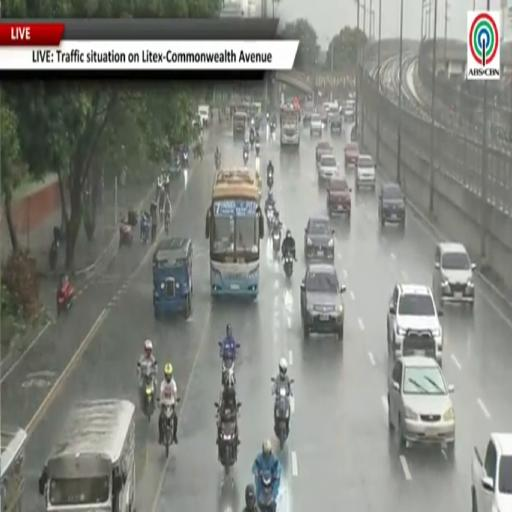bus: (39, 399, 135, 511), (206, 169, 264, 298), (0, 426, 26, 511)
car: (388, 357, 455, 456), (387, 284, 443, 364), (301, 264, 345, 340), (433, 243, 476, 307), (304, 216, 334, 263), (378, 183, 405, 228), (327, 176, 351, 218), (355, 154, 376, 190), (317, 154, 338, 181), (316, 141, 333, 162), (345, 142, 359, 167), (198, 104, 210, 127), (310, 114, 322, 136), (303, 101, 314, 125), (330, 114, 342, 134), (328, 105, 338, 123), (344, 107, 354, 122), (350, 123, 358, 141), (321, 107, 327, 125)
jeepney: (153, 237, 193, 318), (233, 111, 247, 138)
motorcycle: (218, 419, 239, 474), (273, 387, 290, 449), (257, 471, 276, 511), (163, 405, 176, 457), (143, 366, 154, 422), (57, 281, 74, 316), (221, 355, 235, 385), (119, 222, 133, 248), (49, 240, 59, 271), (283, 251, 293, 279), (141, 215, 150, 244), (265, 204, 274, 232), (272, 227, 281, 255), (159, 194, 164, 222), (182, 150, 189, 170), (165, 212, 170, 235), (267, 172, 273, 189), (215, 154, 220, 170), (243, 150, 248, 166), (255, 142, 260, 156), (250, 133, 254, 148)
truck: (471, 434, 511, 511), (280, 108, 300, 148)
